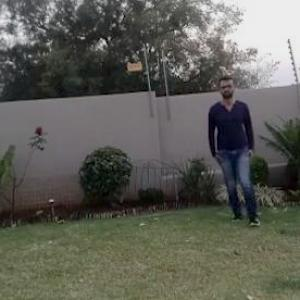follow: (206, 73, 256, 223)
